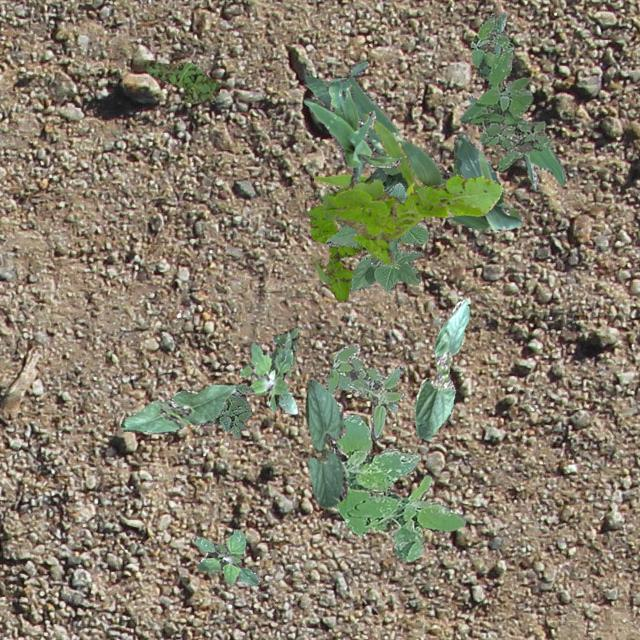crop: (303, 60, 522, 232), (310, 120, 426, 288), (466, 11, 566, 190), (324, 182, 428, 292), (302, 76, 400, 186), (414, 298, 468, 438), (120, 382, 236, 432), (304, 378, 346, 507), (364, 168, 406, 194)
weed: (334, 414, 464, 560), (320, 174, 502, 264), (458, 12, 552, 170), (324, 344, 404, 438), (307, 204, 361, 302), (238, 327, 298, 412), (192, 528, 258, 584), (142, 59, 220, 102), (204, 382, 254, 438)
